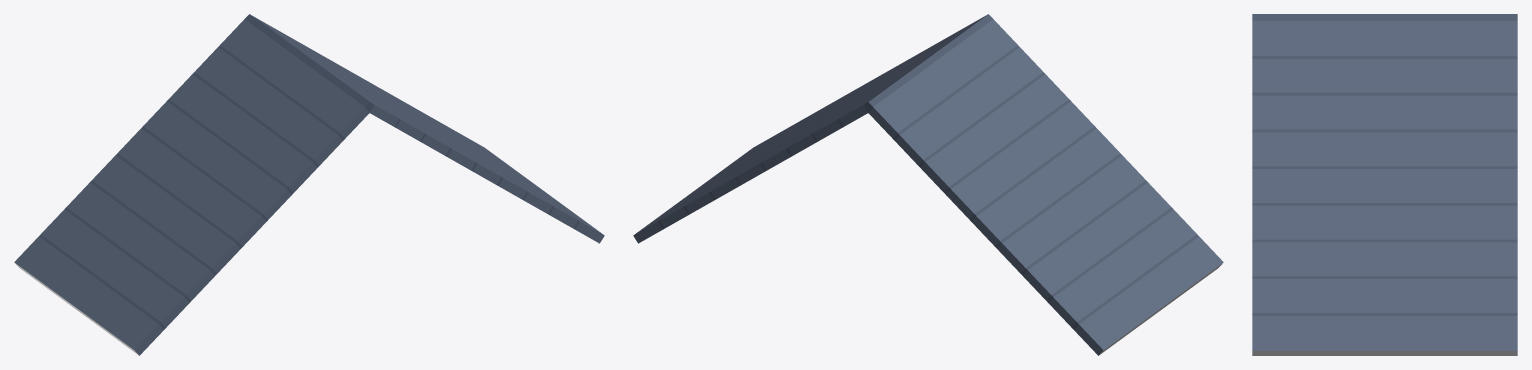
Rendered from Roof1_C4_01.fbx.
3 renders of one model, left to right at view 1: azimuth 30°, elevation 25°; view 2: azimuth 150°, elevation 25°; view 3: azimuth 270°, elevation 25°, orthographic. The views are drawn at different scales.
Parts seen in each view (by area): view 1: Roof1_C4_01; view 2: Roof1_C4_01; view 3: Roof1_C4_01.
Boxes of the visible parts, box(x1,y1,x2,y2) form: Roof1_C4_01: box(14, 14, 604, 355); Roof1_C4_01: box(633, 14, 1223, 355); Roof1_C4_01: box(1252, 14, 1517, 355).
Size of the model in its own units: 565 by 227 by 250.
